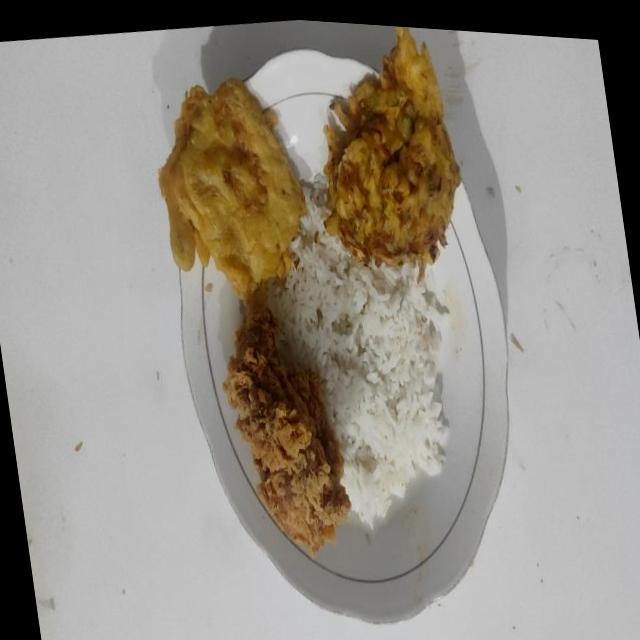nasi_putih: (267, 182, 449, 528)
